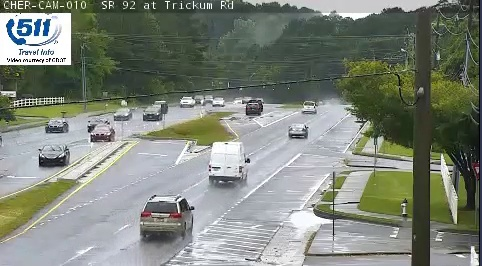car: (140, 197, 193, 233), (289, 123, 307, 136), (303, 101, 315, 112)
van: (210, 142, 247, 180)
